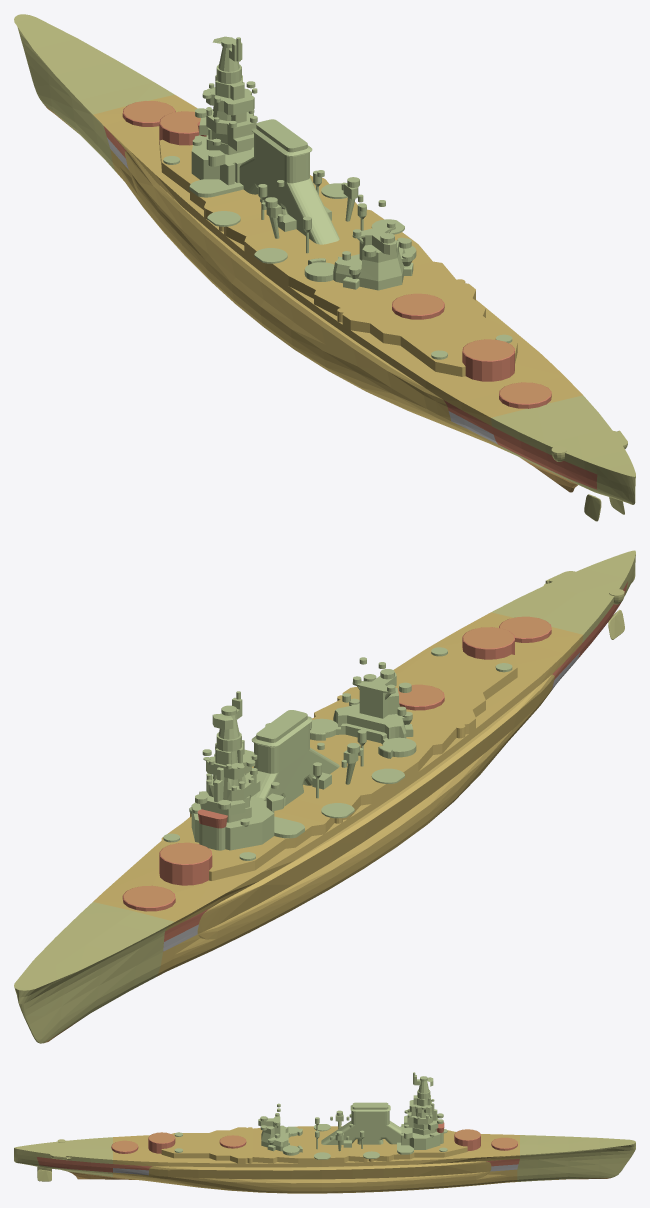
The model's file is PJSB210_armor.glb.
3 renders of one model, top to bottom at view 1: azimuth 30°, elevation 25°; view 2: azimuth 150°, elevation 25°; view 3: azimuth 270°, elevation 25°, orthographic. The views are drawn at different scales.
Parts seen in each view (by area): view 1: armor; view 2: armor; view 3: armor.
Part boxes in pixels (x1,y1,x2,y2): armor: (14, 14, 635, 521); armor: (14, 550, 635, 1043); armor: (14, 1072, 635, 1193).
Bounding box in the file's own units: 26.7 × 37.63 × 200.
